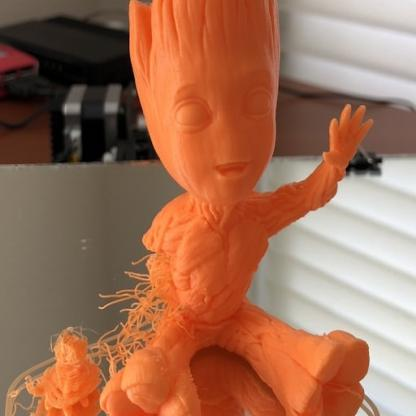fail: (91, 250, 179, 359)
